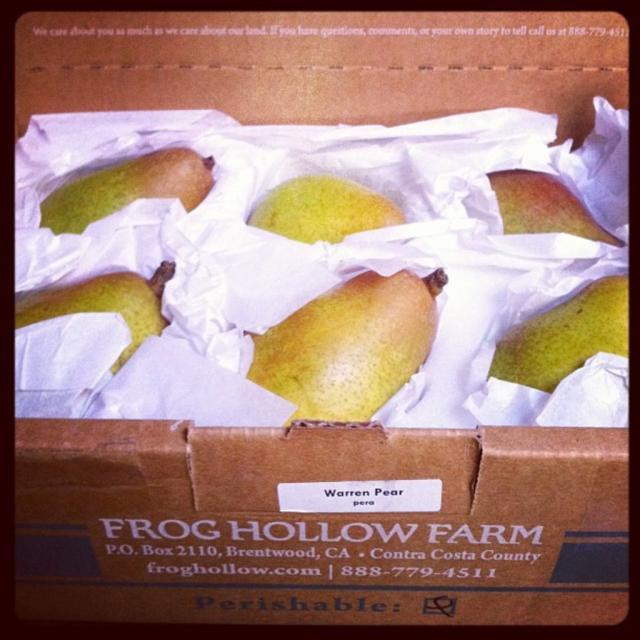pear: (239, 264, 445, 432), (11, 251, 178, 375), (484, 272, 630, 395), (34, 144, 218, 234), (244, 168, 409, 245), (486, 168, 626, 248)
